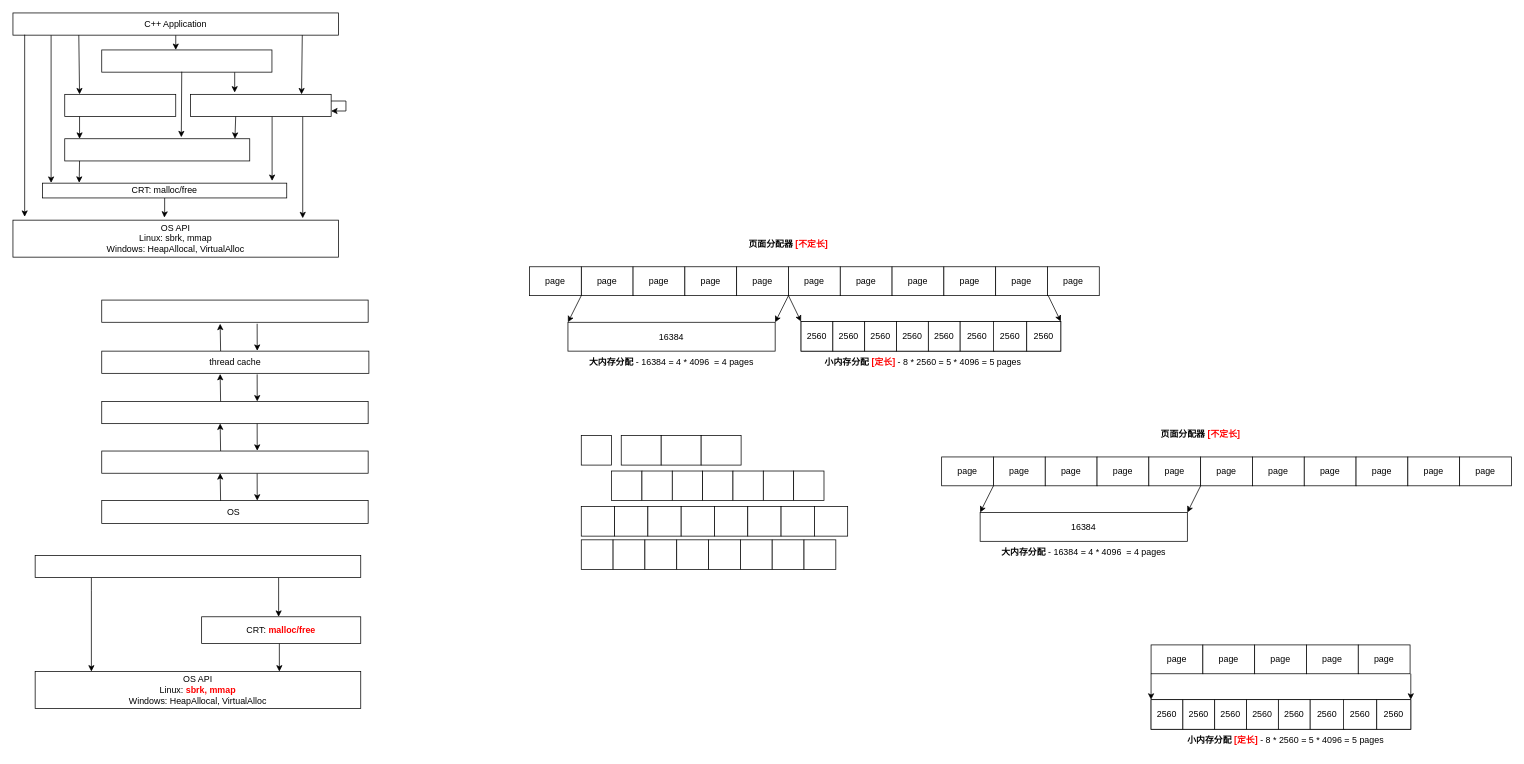
Some shapes in this 1524 by 764 pixel diagram are drawn without their labels. Each missing label, with the centre of its shape:
"Application" goes at (x=234, y=310).
"C Application" goes at (x=197, y=566).
"C++ [custom] std::allocator for containers" goes at (x=186, y=60).
"C++ global/class new/delete operator" goes at (x=157, y=149).
"C++ new/delete expression" goes at (x=120, y=105).
"C++ std::pmr::memory_resource" goes at (x=260, y=105).
"page allocator" goes at (x=234, y=461).
"tcmalloc CentralCache / jemalloc arena" goes at (x=234, y=412).
